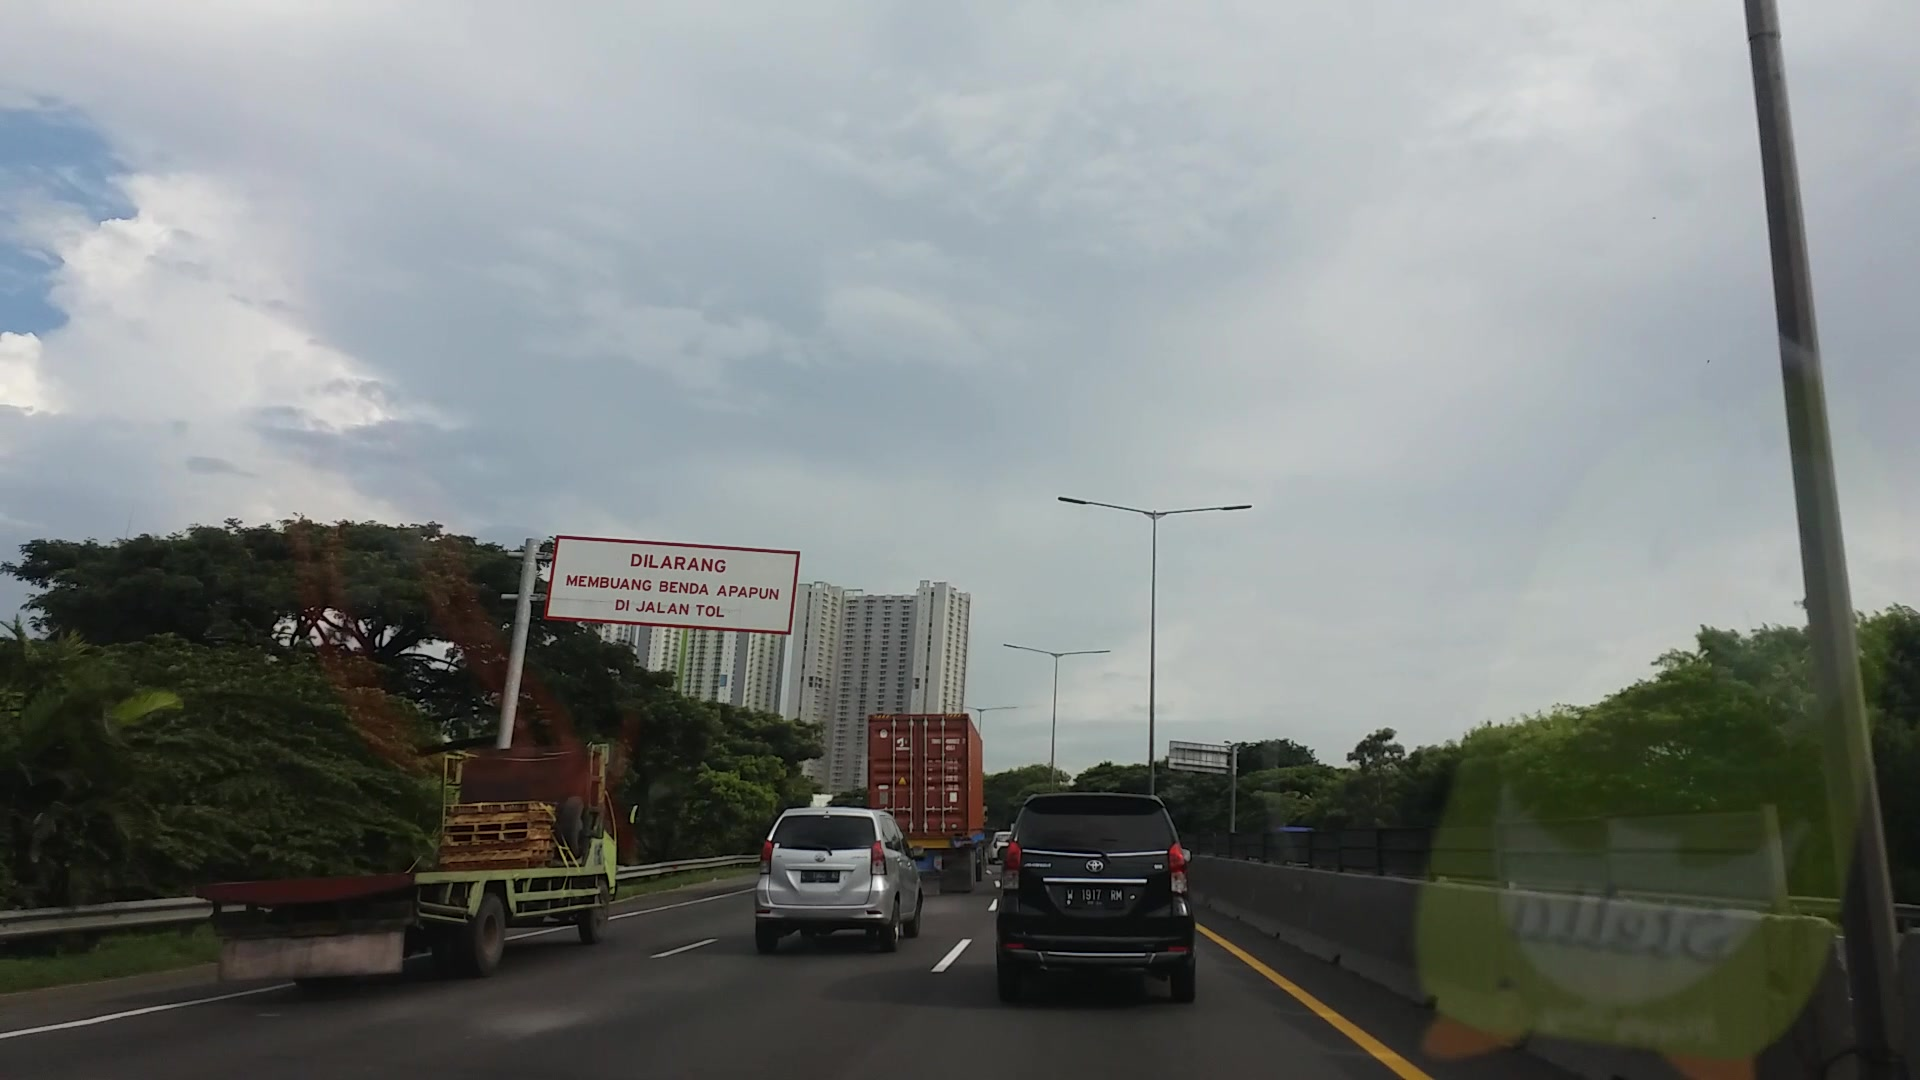plate_positive: (1064, 886, 1124, 909)
